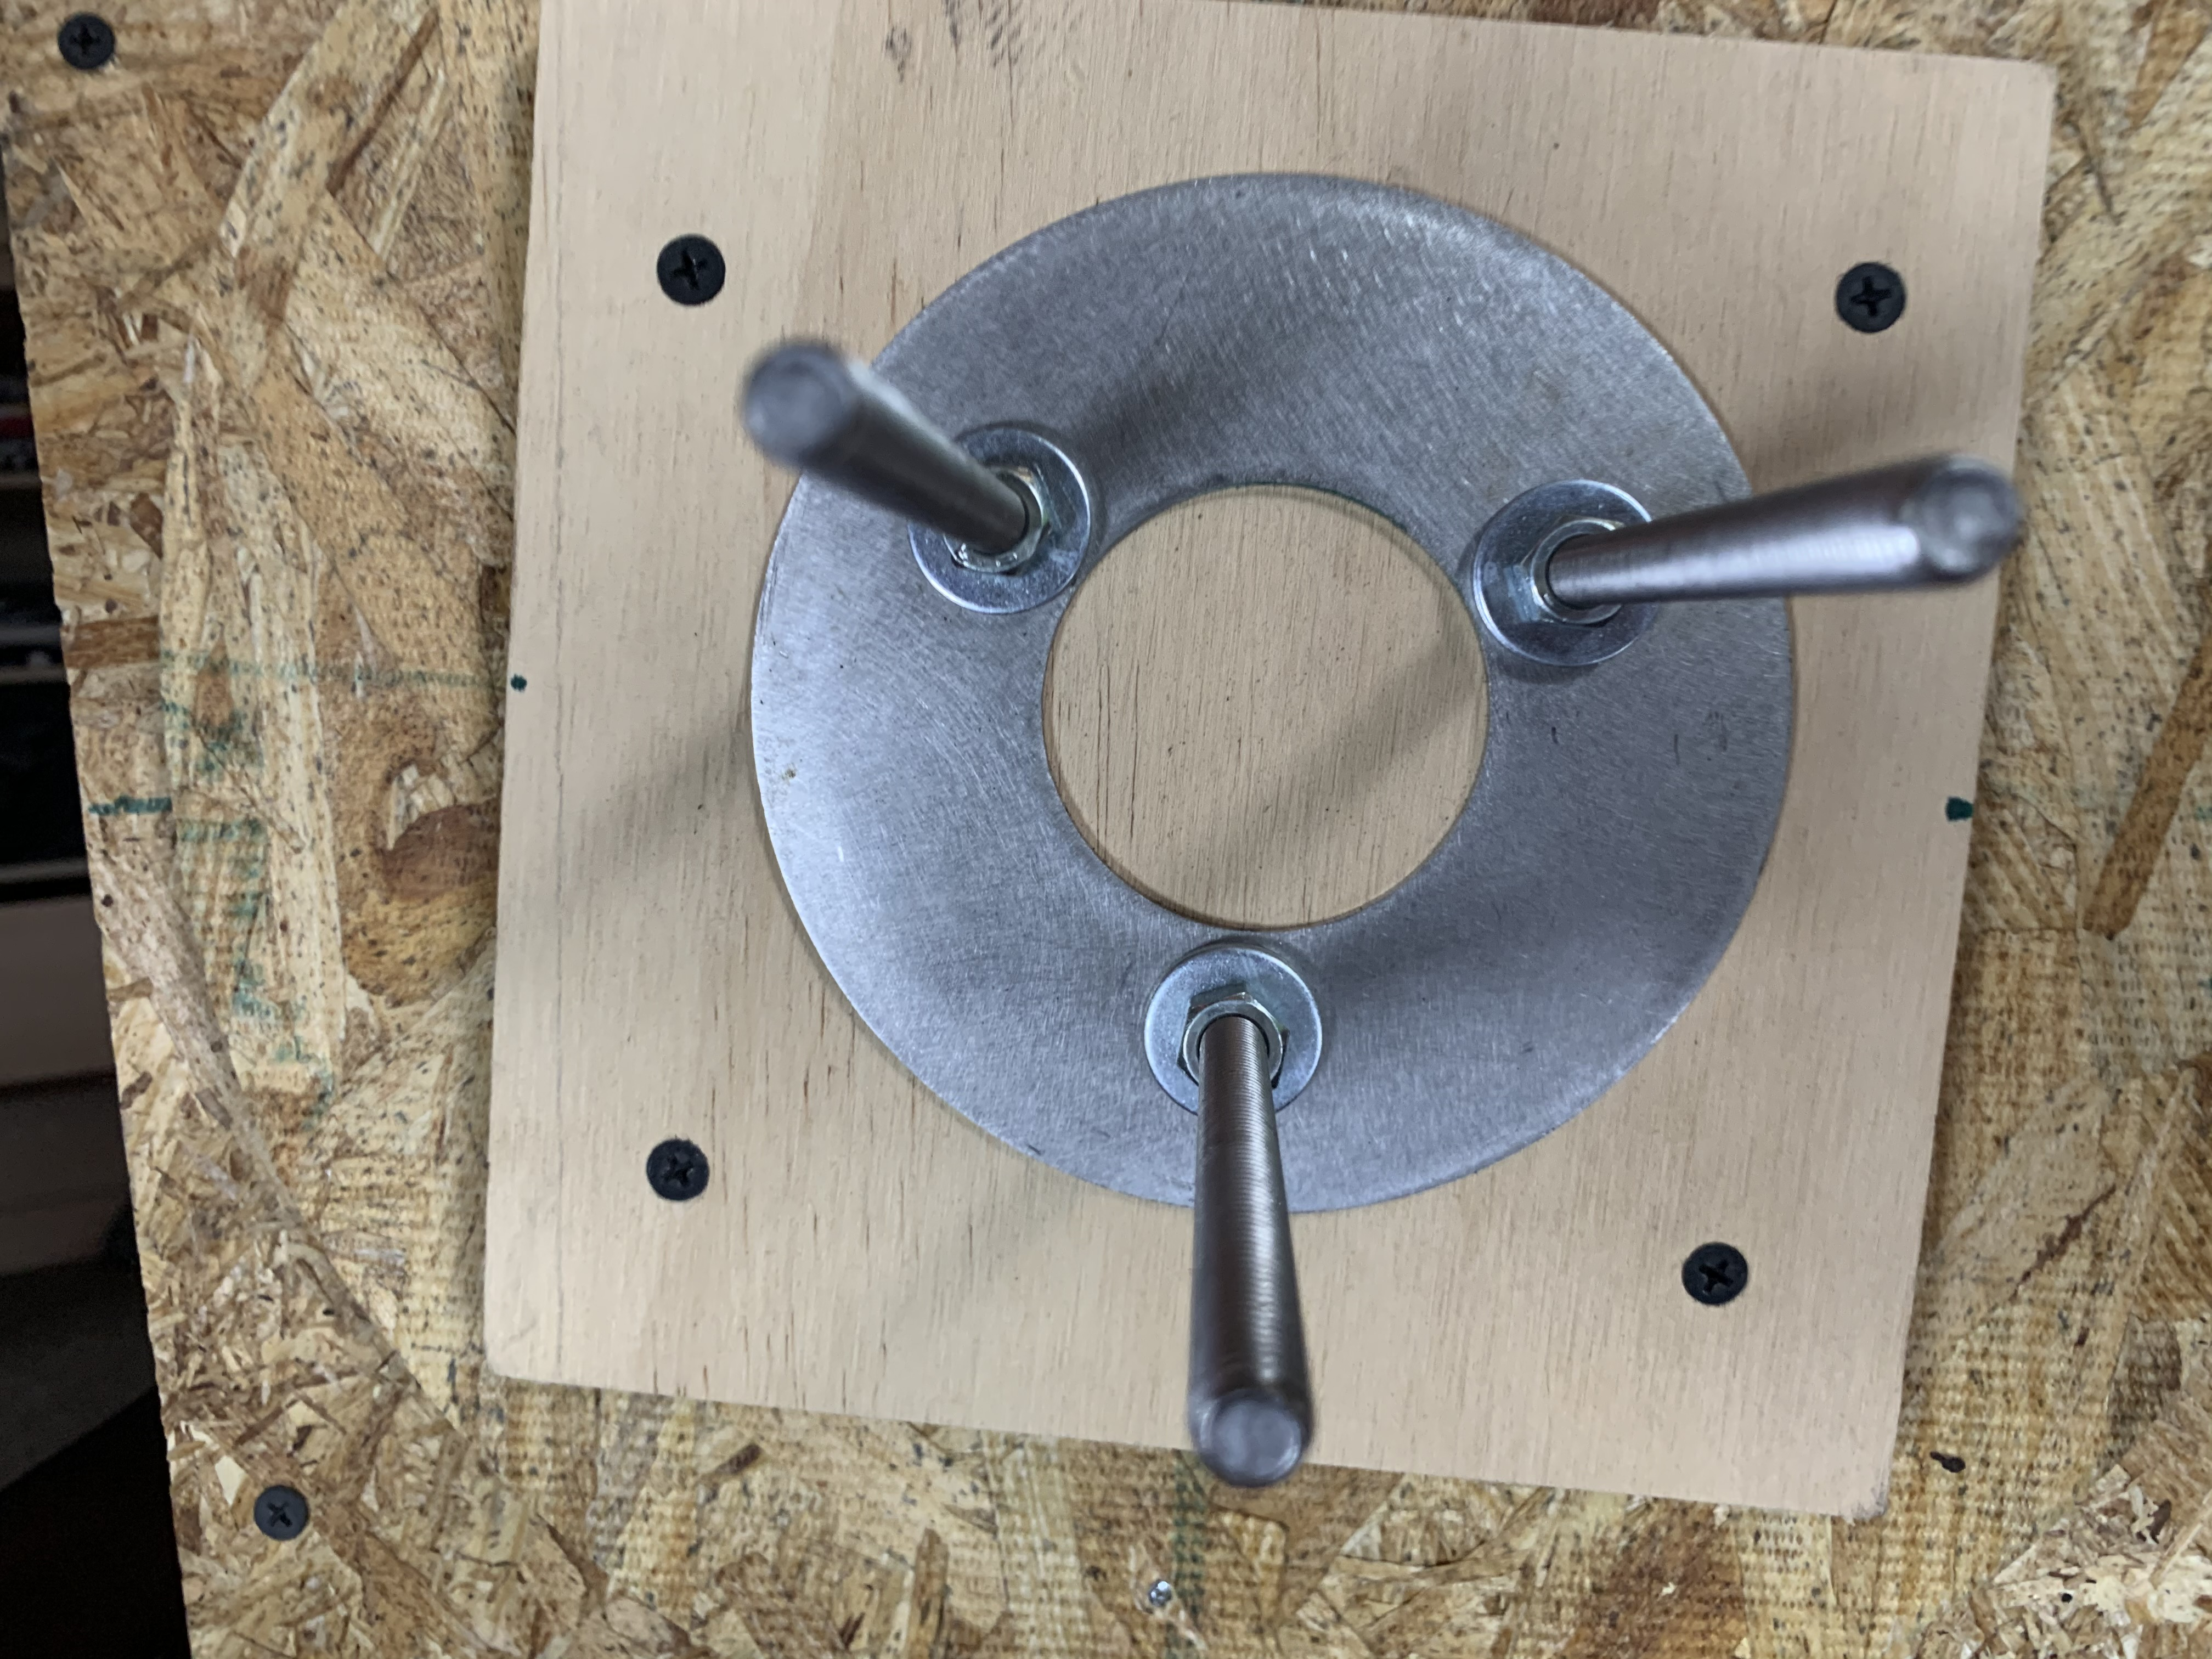bolt: (1467, 477, 1662, 676), (904, 420, 1101, 610), (1143, 939, 1336, 1115)
